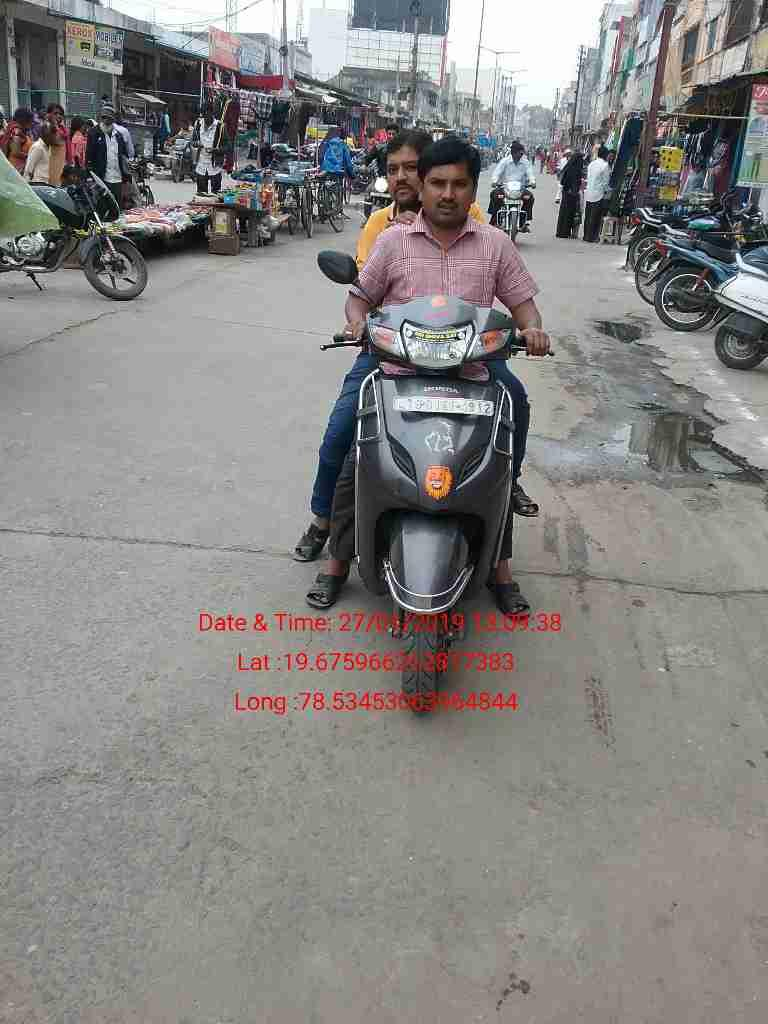plate: (390, 388, 499, 428)
